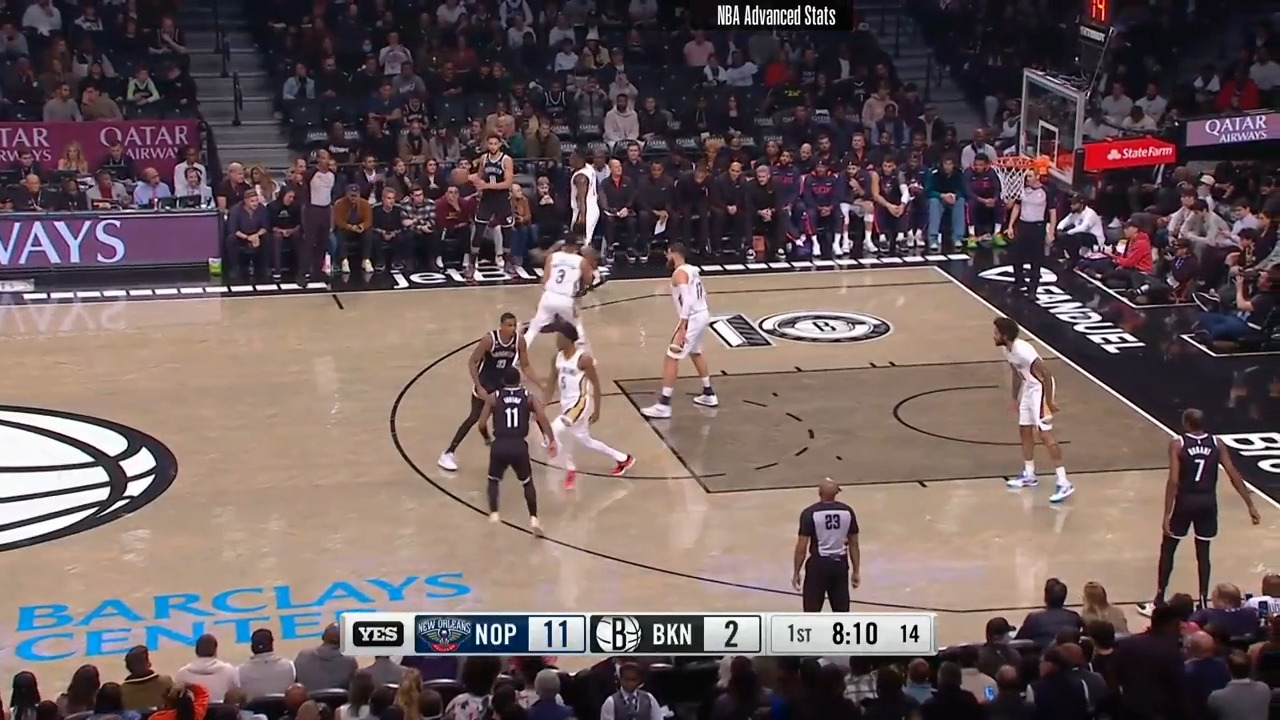net: (995, 147, 1062, 198)
player: (1154, 405, 1268, 610), (531, 322, 630, 492), (981, 313, 1067, 504), (433, 310, 531, 475), (481, 364, 558, 541), (652, 243, 718, 428), (525, 232, 606, 363), (458, 133, 519, 288), (559, 143, 607, 297)
referee: (791, 476, 865, 616), (997, 168, 1055, 301), (304, 144, 337, 283)
